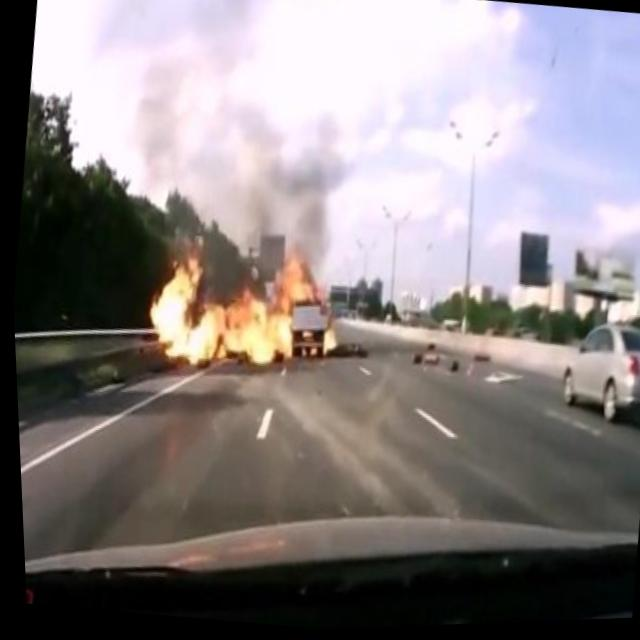fire: (137, 226, 307, 374), (315, 325, 336, 359)
